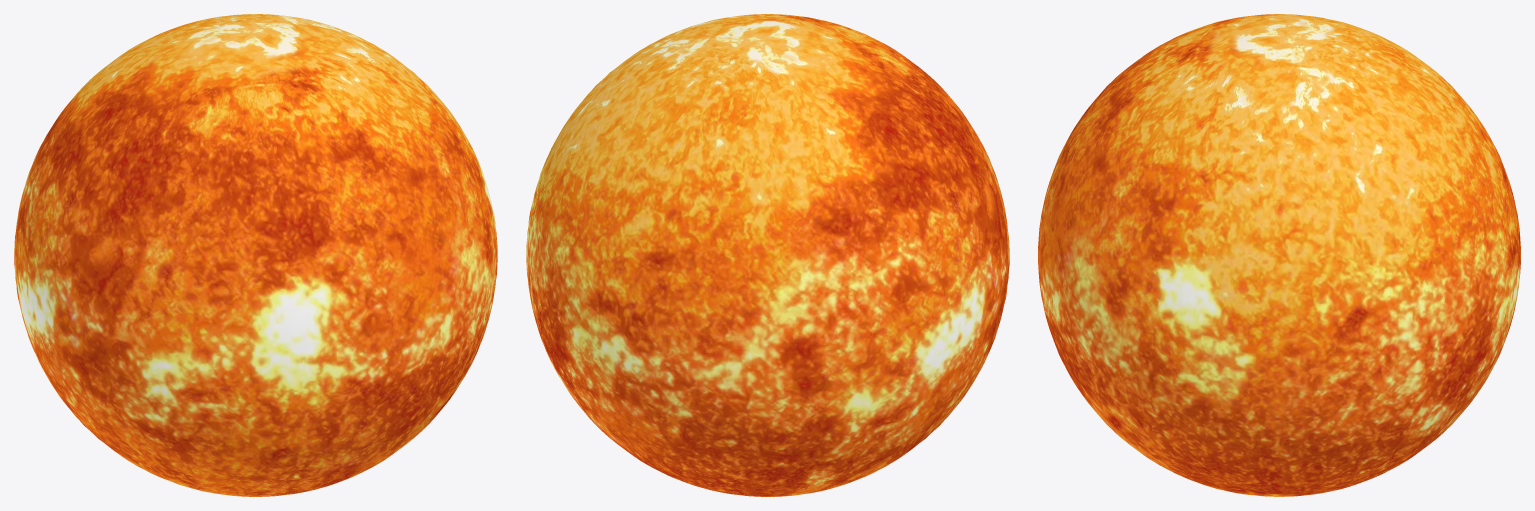
File: The_Sun-processed-transformed.glb
3 renders of one model, left to right at view 1: azimuth 30°, elevation 25°; view 2: azimuth 150°, elevation 25°; view 3: azimuth 270°, elevation 25°, orthographic.
Parts seen in each view (by area): view 1: pSphere1.1; view 2: pSphere1.1; view 3: pSphere1.1.
Boxes of the visible parts, x1,y1,x2,y2 form: pSphere1.1: [14, 14, 497, 496]; pSphere1.1: [526, 14, 1009, 496]; pSphere1.1: [1038, 14, 1520, 496].
Size of the model in its own units: 0.2 by 0.2 by 0.2.
1 material, 1 textured.
